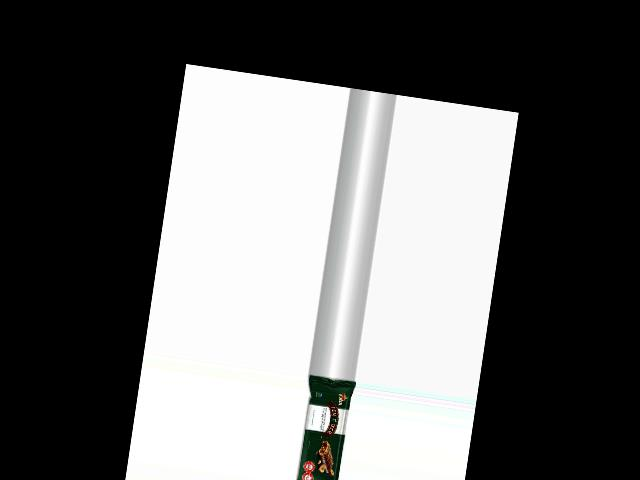chocolate: (289, 372, 356, 480)
